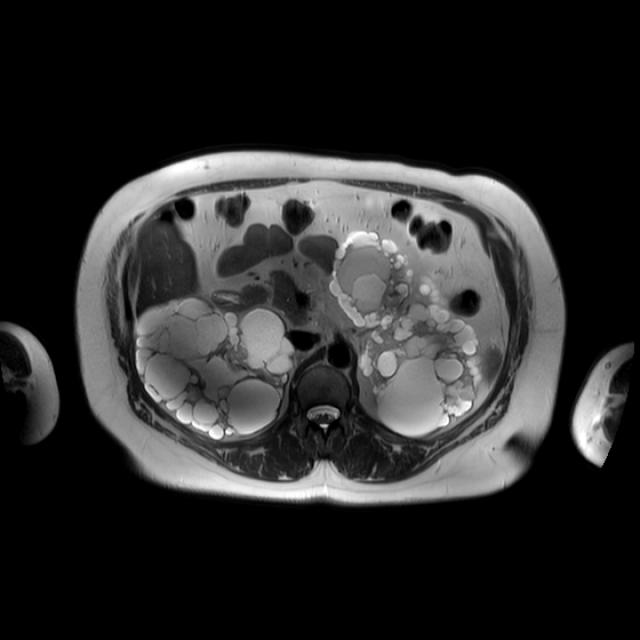sag: (136, 297, 297, 440)
sol: (330, 231, 487, 433)
